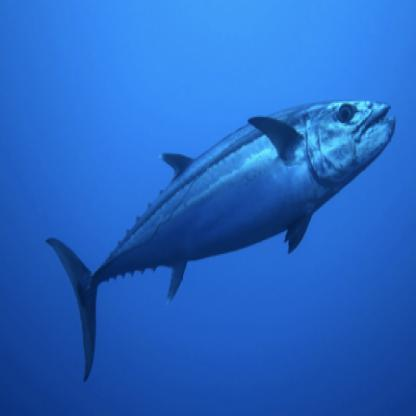Scombridae -Tunas-: (40, 91, 401, 397)
